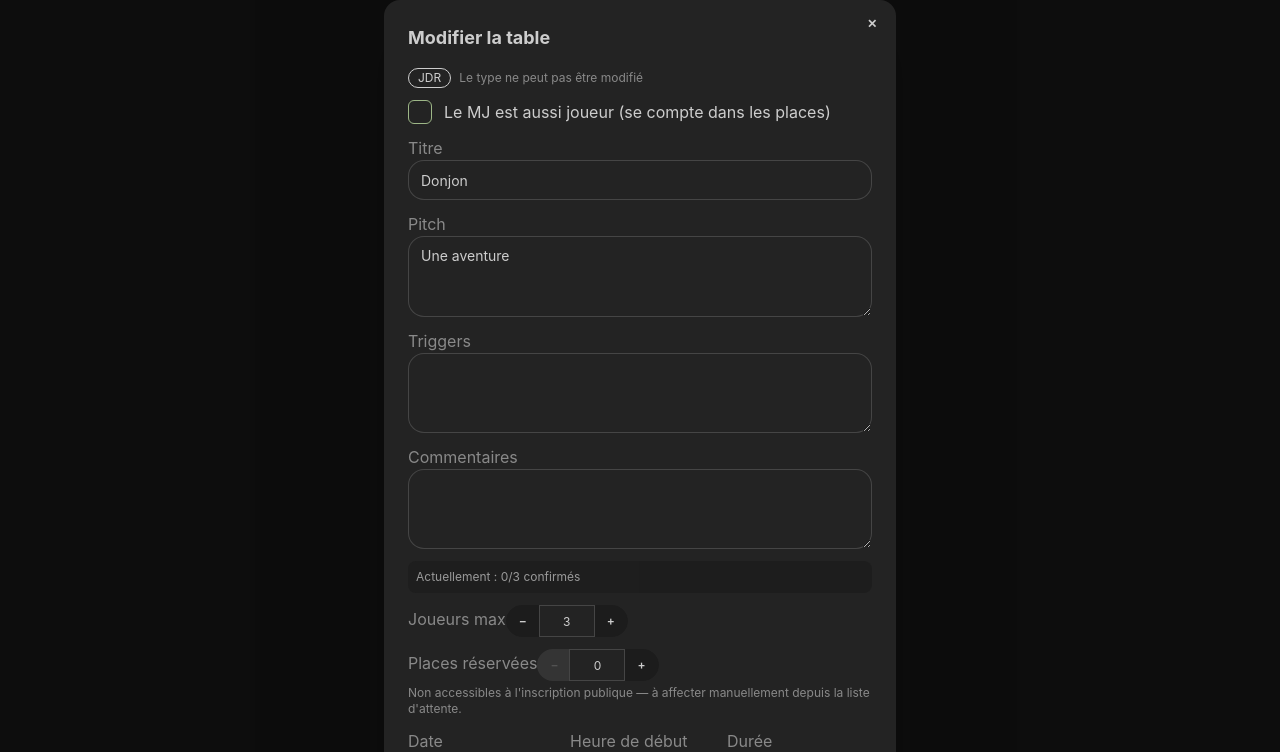
Test: EditTableModal › shows a hint that a seat will be created/deleted when the gmIsPlayer checkbox changes
The width and height of the screenshot is (1280, 752).
Expected: the text "sera créée pour le MJ" is not shown
Click the checkbox labelled "Le MJ est aussi joueur (se compte dans les places)": (420, 112) x1=408 y1=100 x2=432 y2=124
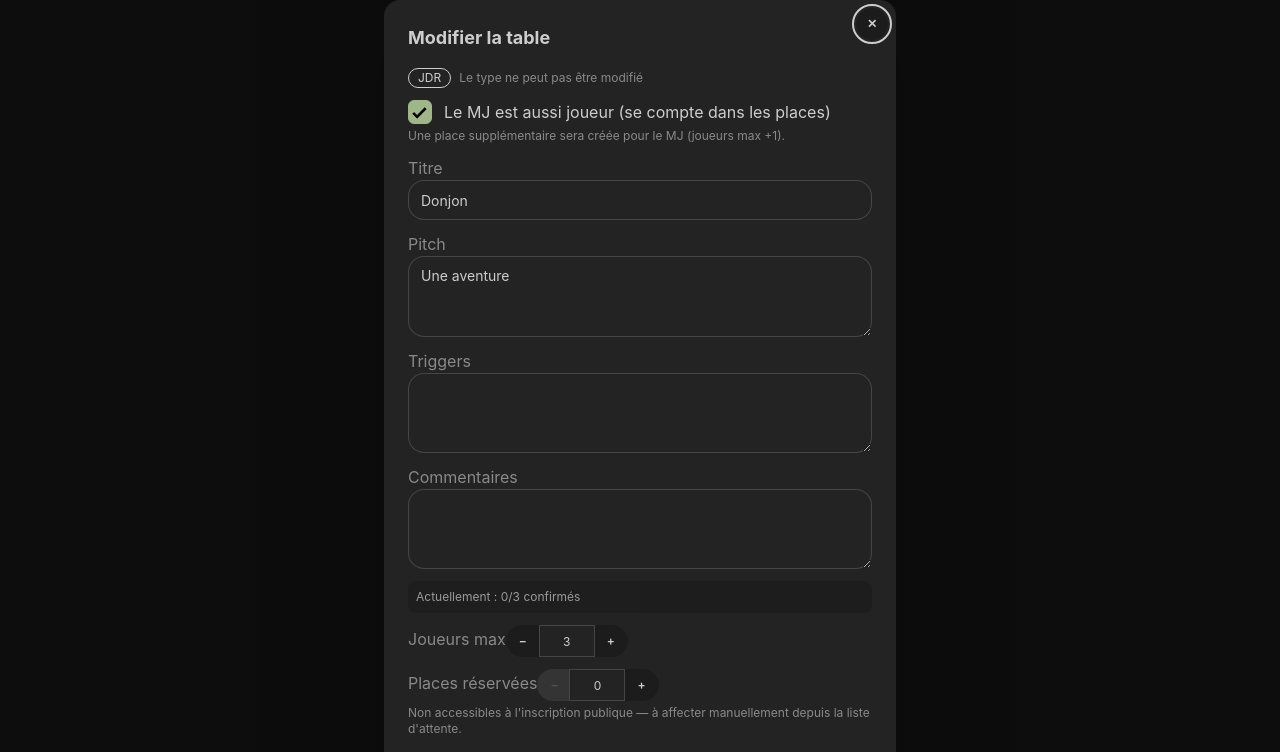
Expected: the text "Une place supplémentaire sera créée pour le MJ" is shown, x1=408 y1=128 x2=785 y2=143
